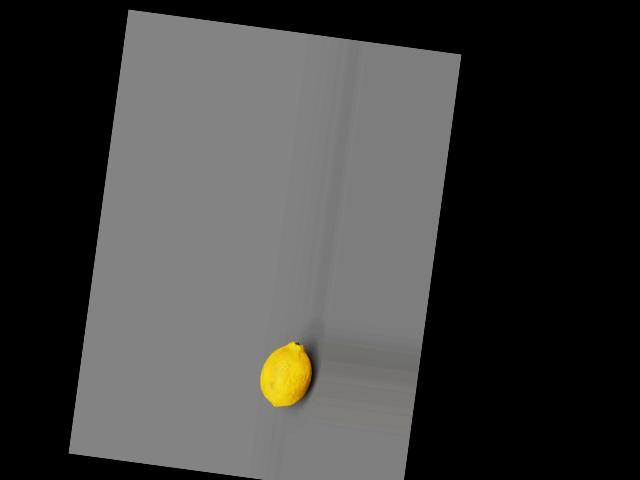lemon: (255, 328, 317, 414)
